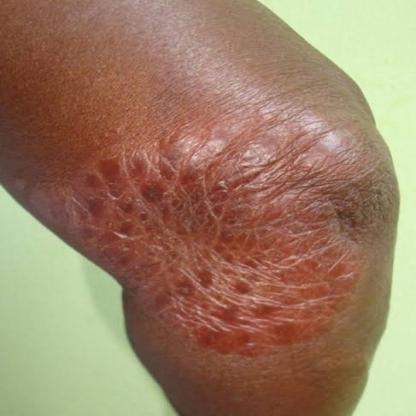Hansen-s Disease-Leprosy- severe: (58, 134, 361, 258), (148, 243, 376, 347)
